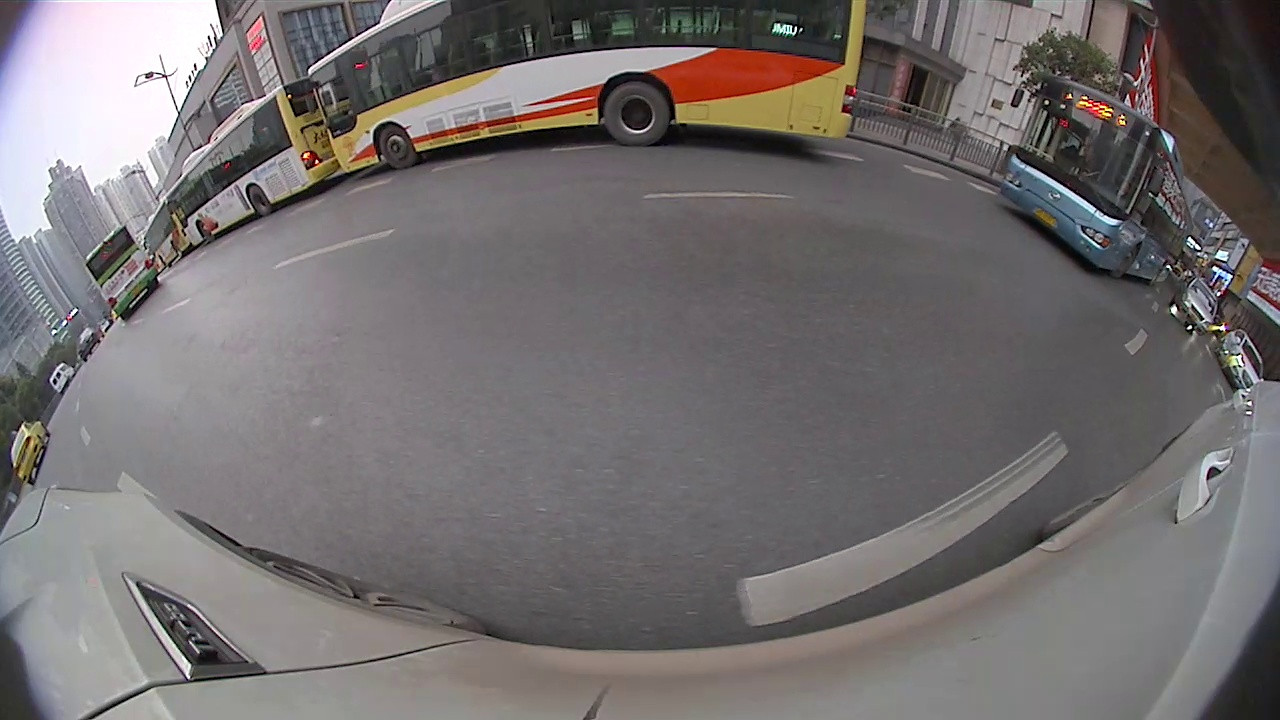bus: (302, 1, 872, 178), (1007, 62, 1192, 288), (167, 71, 342, 252), (78, 221, 163, 321)
car: (1214, 329, 1271, 393), (8, 414, 53, 491), (1174, 283, 1227, 330)
front: (376, 126, 418, 169)
rear: (603, 81, 673, 148), (243, 188, 274, 216)
